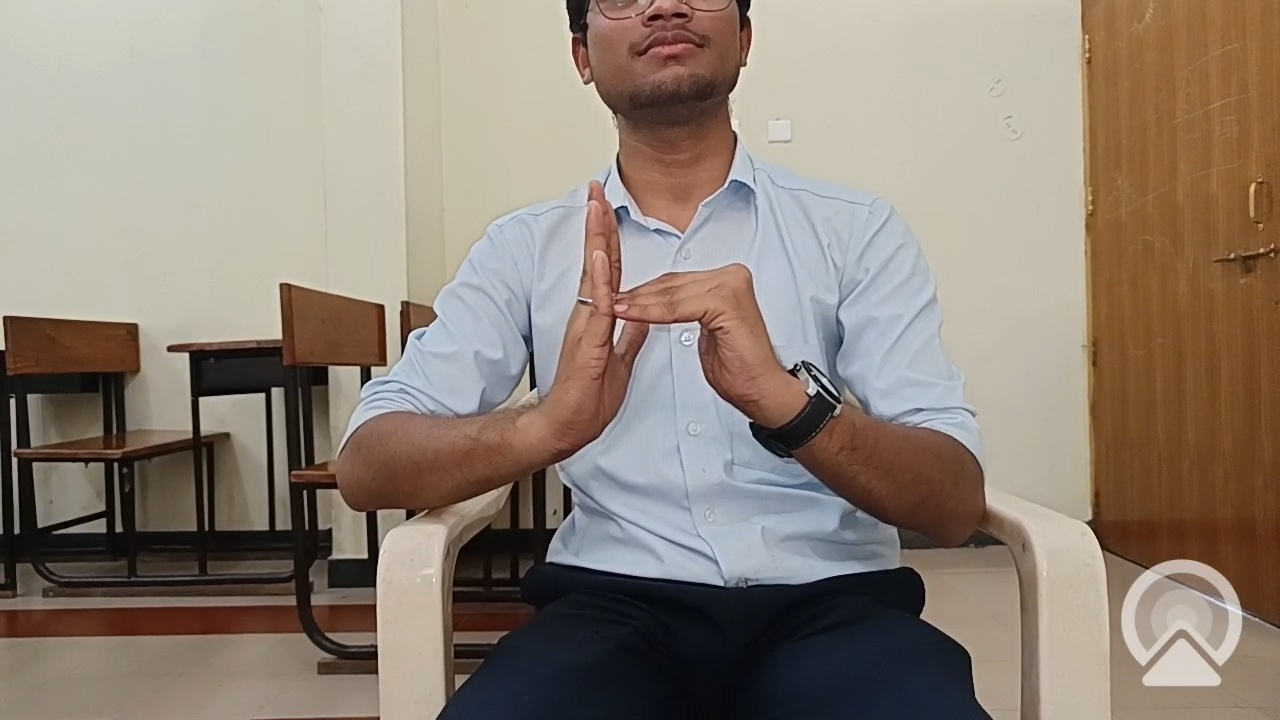Z: (489, 170, 850, 503)
